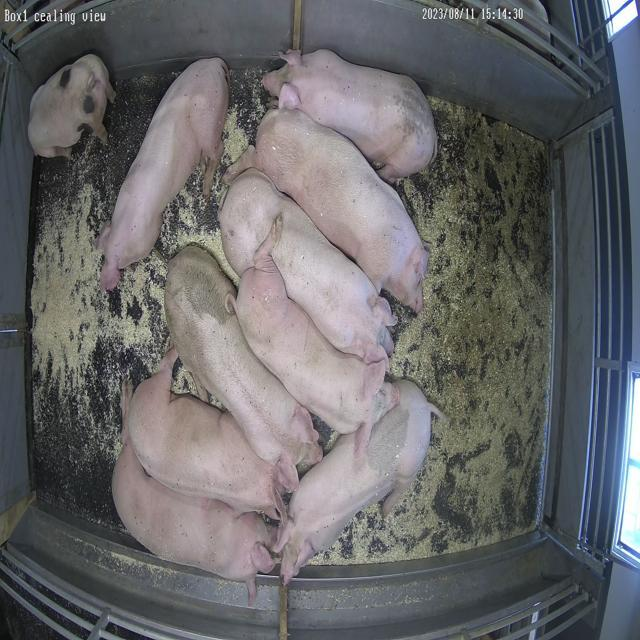Dirt: (446, 106, 552, 276)
Pig: (165, 246, 321, 490), (255, 109, 429, 312), (274, 380, 443, 586), (219, 168, 396, 363), (97, 58, 229, 292), (236, 239, 388, 436), (112, 442, 275, 606), (126, 351, 283, 520), (262, 49, 438, 182), (27, 54, 115, 157)
